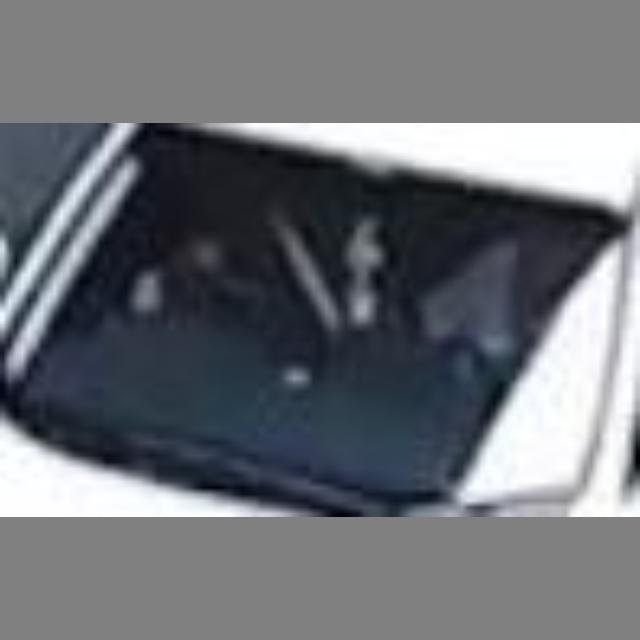pakai: (123, 162, 394, 382)
